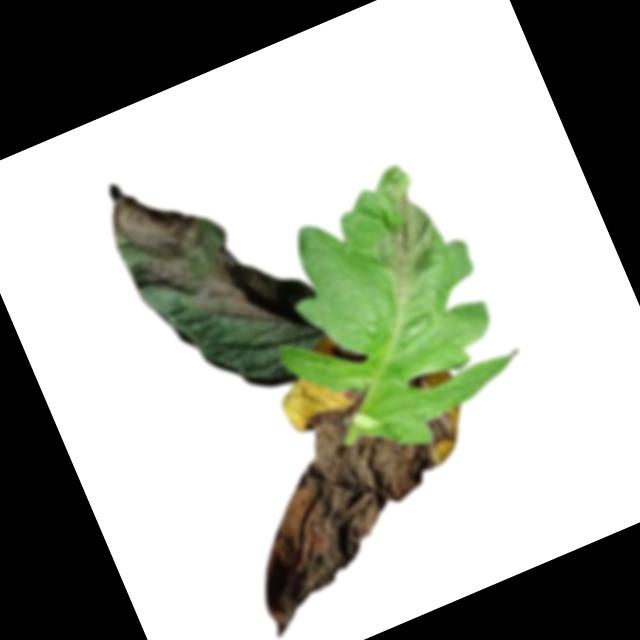Late_blight: (200, 359, 502, 633), (94, 154, 219, 301), (354, 170, 457, 299), (185, 249, 271, 348)
